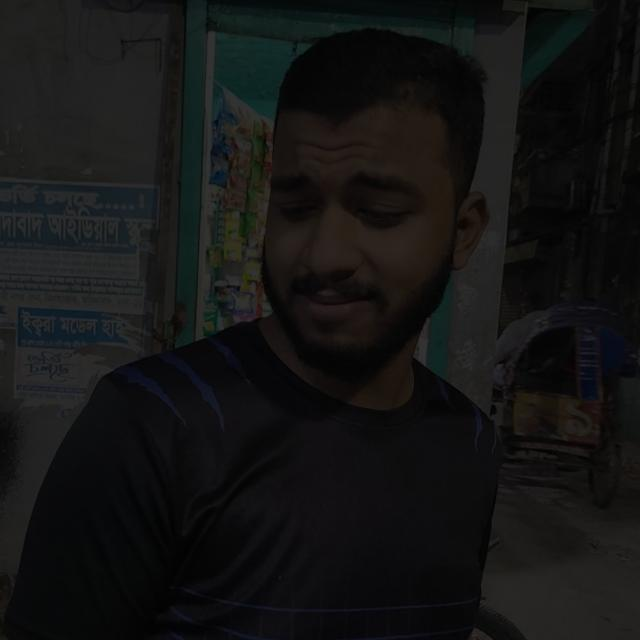Disgust: (222, 82, 473, 377)
